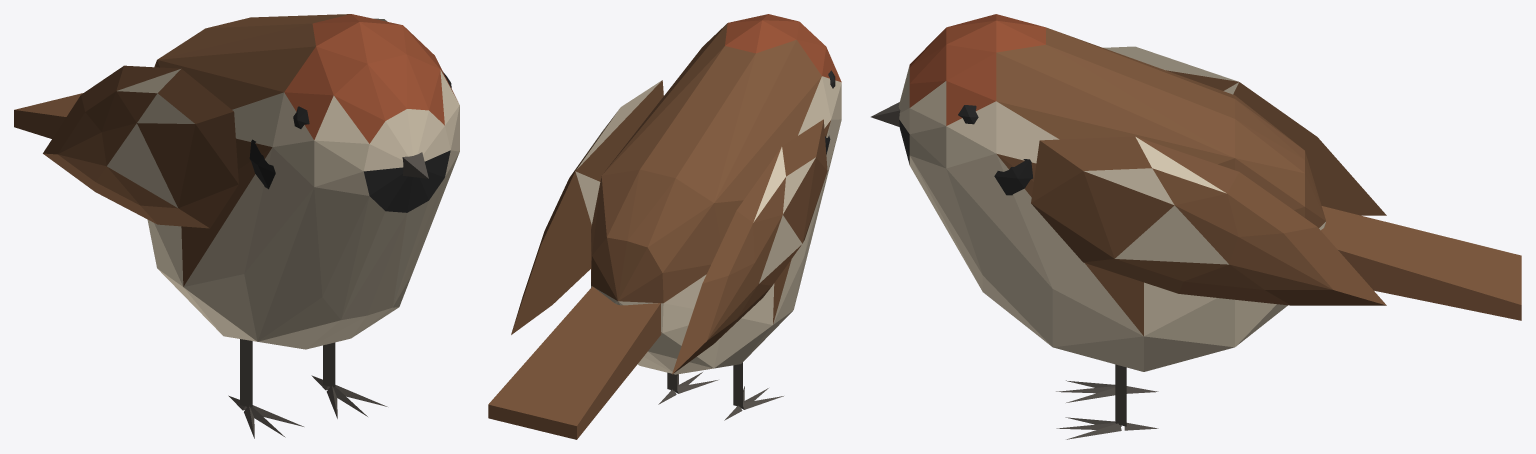
Rendered from 23B_Pajaro.fbx.
3 renders of one model, left to right at view 1: azimuth 30°, elevation 25°; view 2: azimuth 150°, elevation 25°; view 3: azimuth 270°, elevation 25°, orthographic. The views are drawn at different scales.
Parts seen in each view (by area): view 1: SM_23B_Pajaro_Cuerpo, SM_23B_Pajaro_Ala_Der; view 2: SM_23B_Pajaro_Cuerpo, SM_23B_Pajaro_Ala_Der, SM_23B_Pajaro_Ala_Izq; view 3: SM_23B_Pajaro_Cuerpo, SM_23B_Pajaro_Ala_Izq, SM_23B_Pajaro_Ala_Der.
Part boxes in pixels (bbox=[...]): SM_23B_Pajaro_Cuerpo: bbox=[14, 14, 459, 438]; SM_23B_Pajaro_Ala_Der: bbox=[43, 65, 238, 228]; SM_23B_Pajaro_Cuerpo: bbox=[488, 14, 841, 439]; SM_23B_Pajaro_Ala_Der: bbox=[672, 119, 827, 374]; SM_23B_Pajaro_Ala_Izq: bbox=[511, 80, 663, 334]; SM_23B_Pajaro_Cuerpo: bbox=[871, 14, 1521, 439]; SM_23B_Pajaro_Ala_Izq: bbox=[1031, 136, 1386, 305]; SM_23B_Pajaro_Ala_Der: bbox=[1103, 46, 1386, 215].
Size of the model in its own units: 0.06 by 0.099 by 0.15.
